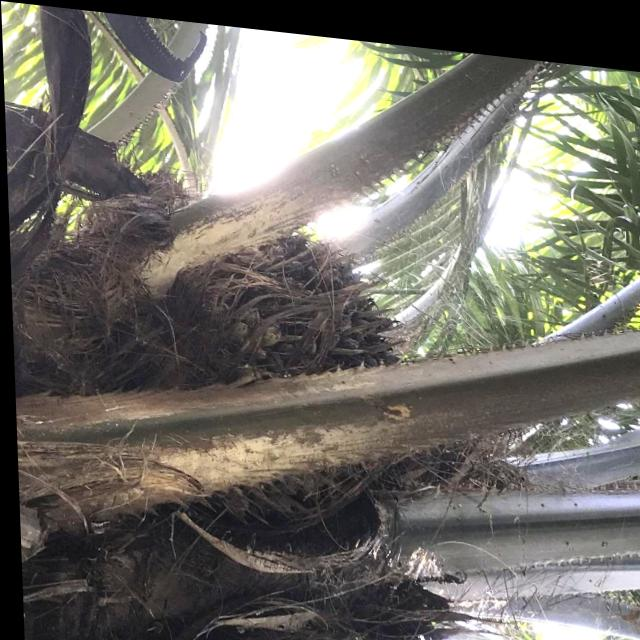almost: (120, 194, 409, 413)
